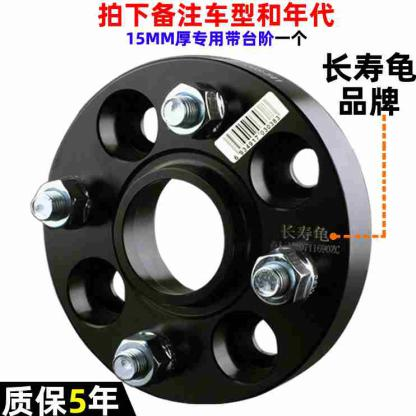FOD: (35, 50, 380, 406)
